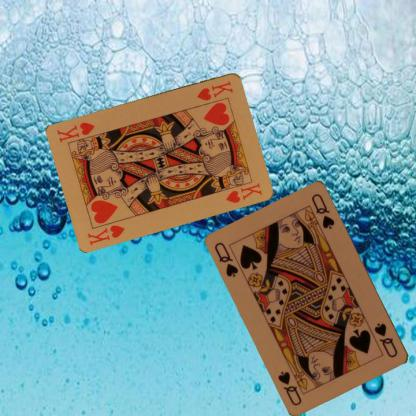Kh: (194, 77, 235, 102), (85, 222, 126, 246)
Qs: (212, 240, 240, 278), (372, 320, 399, 359)
